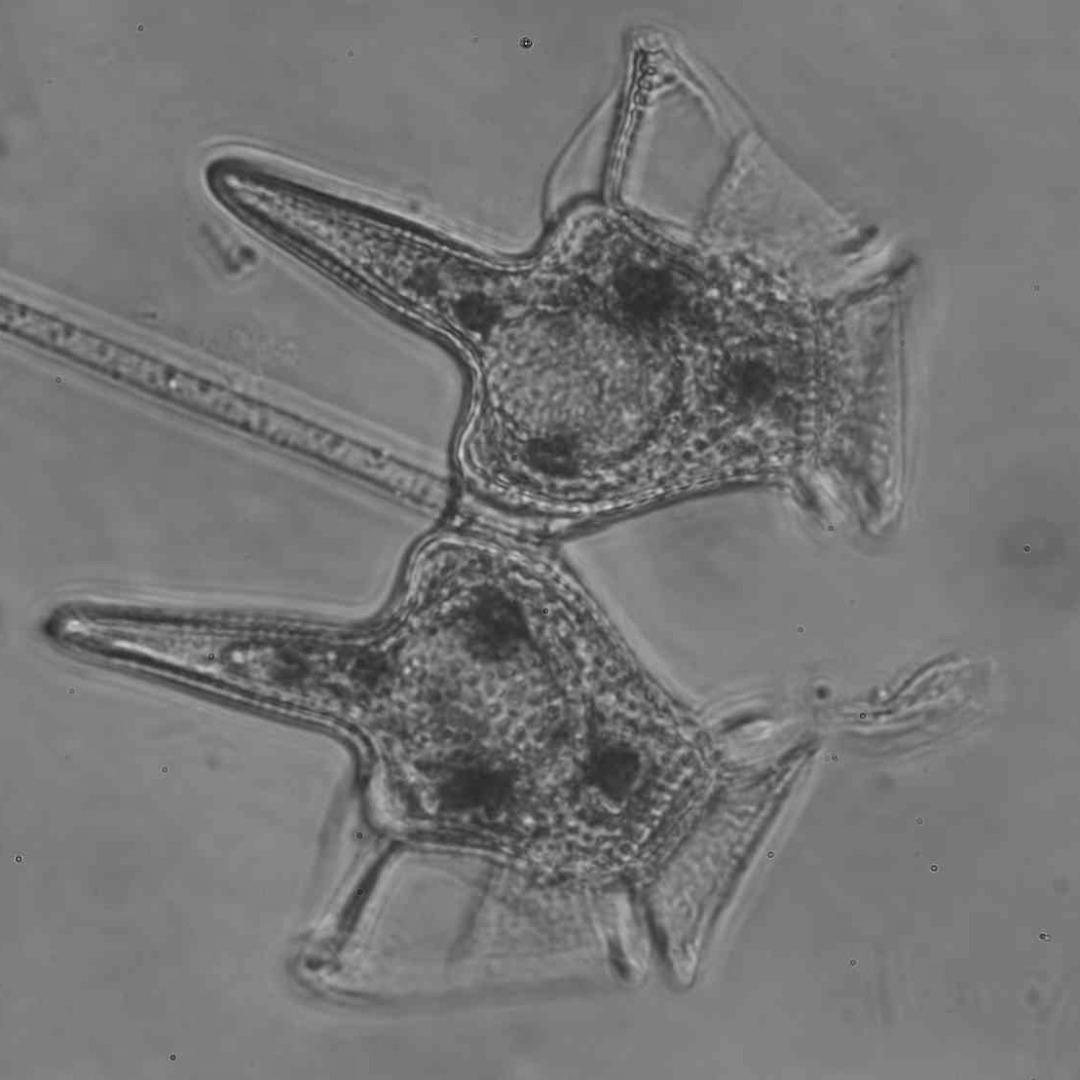dinophysis_caudata: (40, 524, 829, 1020), (204, 17, 926, 544)
